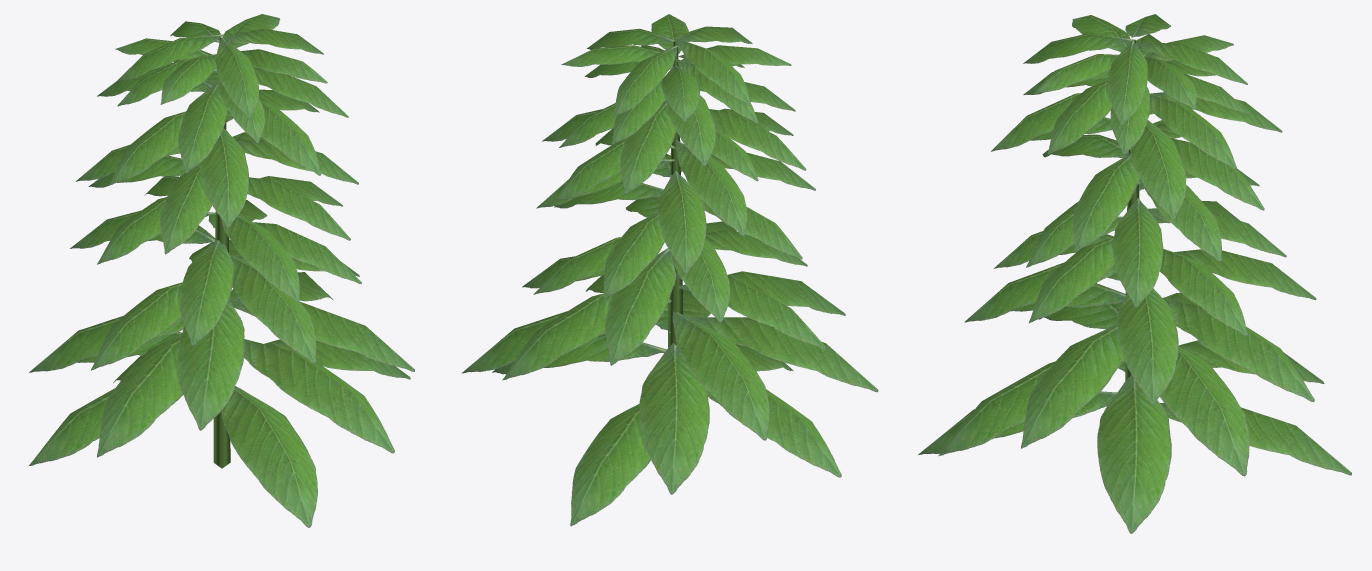
The model's file is plant20.FBX.
3 views of the same model, side by side, from view 1: azimuth 30°, elevation 25°; view 2: azimuth 150°, elevation 25°; view 3: azimuth 270°, elevation 25° (orthographic). The views are drawn at different scales.
Parts seen in each view (by area): view 1: plant20; view 2: plant20; view 3: plant20.
Boxes of the visible parts, x1=… form: plant20: x1=28, y1=14, x2=414, y2=527; plant20: x1=461, y1=14, x2=878, y2=526; plant20: x1=918, y1=14, x2=1351, y2=533.
Bounding box in the file's own units: 1.86 × 2.1 × 1.83.
